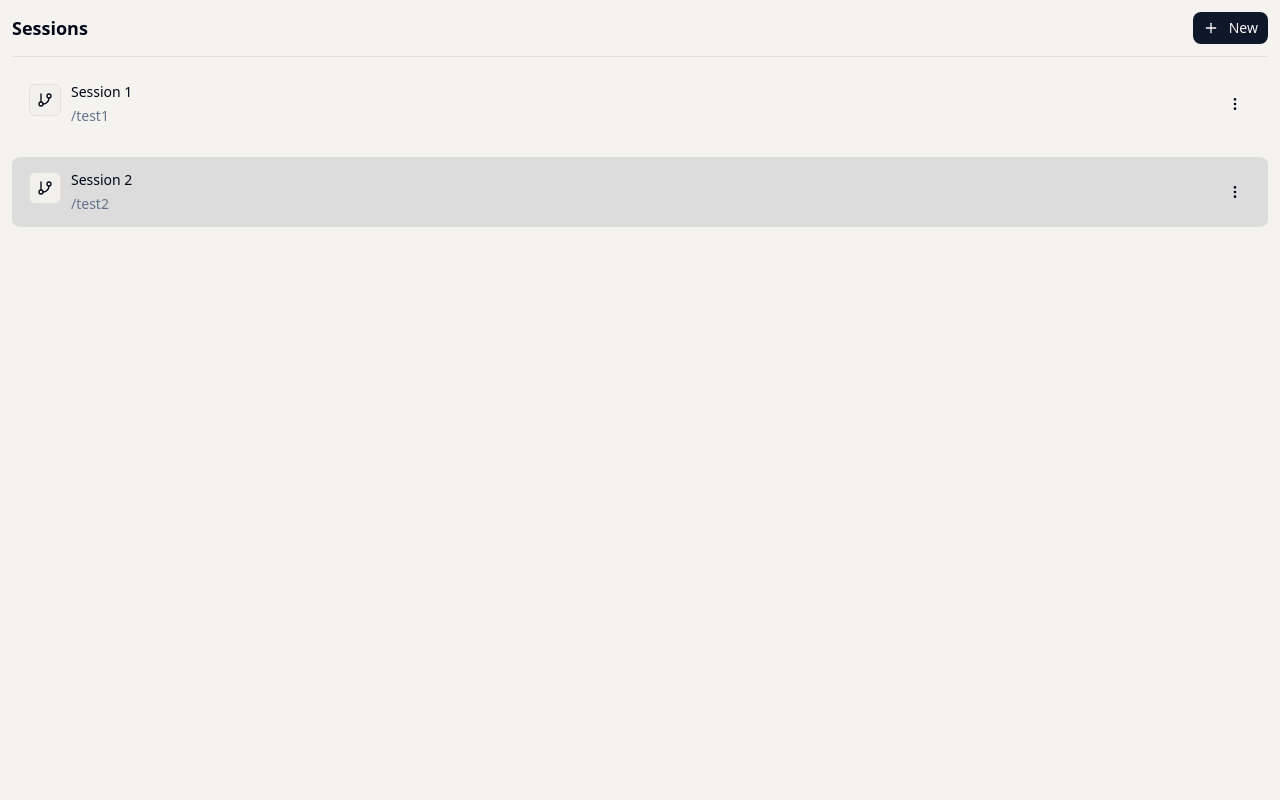
SessionList › should show confirmation dialog before delete
Expected: the text "Session 1" is shown, [71, 82, 132, 101]
// Find and click the dropdown menu trigger button (first one, not expanded)
Click the 1st button named "Delete session".
click(1235, 104)  # box [1219, 88, 1251, 120]
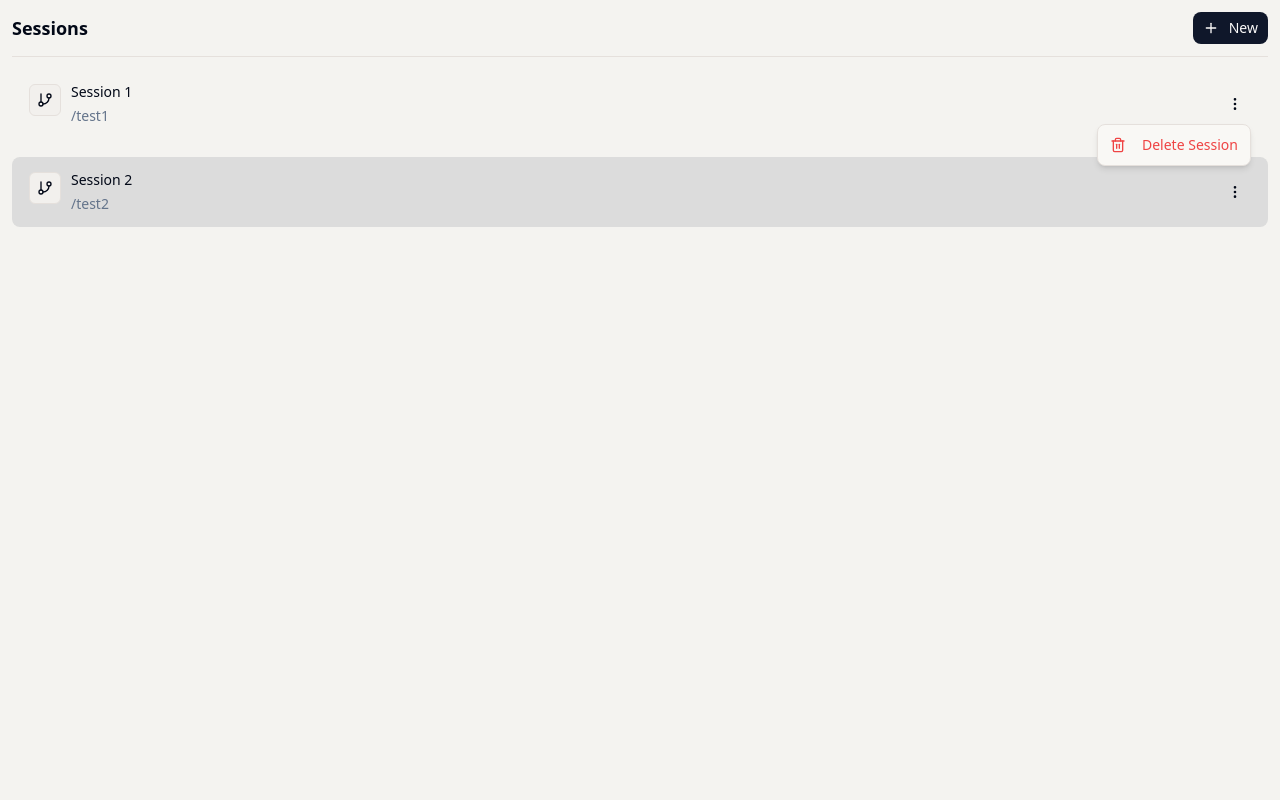
// Click the delete menu item
Click the menu item "Delete Session".
click(1174, 144)  # box [1110, 135, 1238, 154]
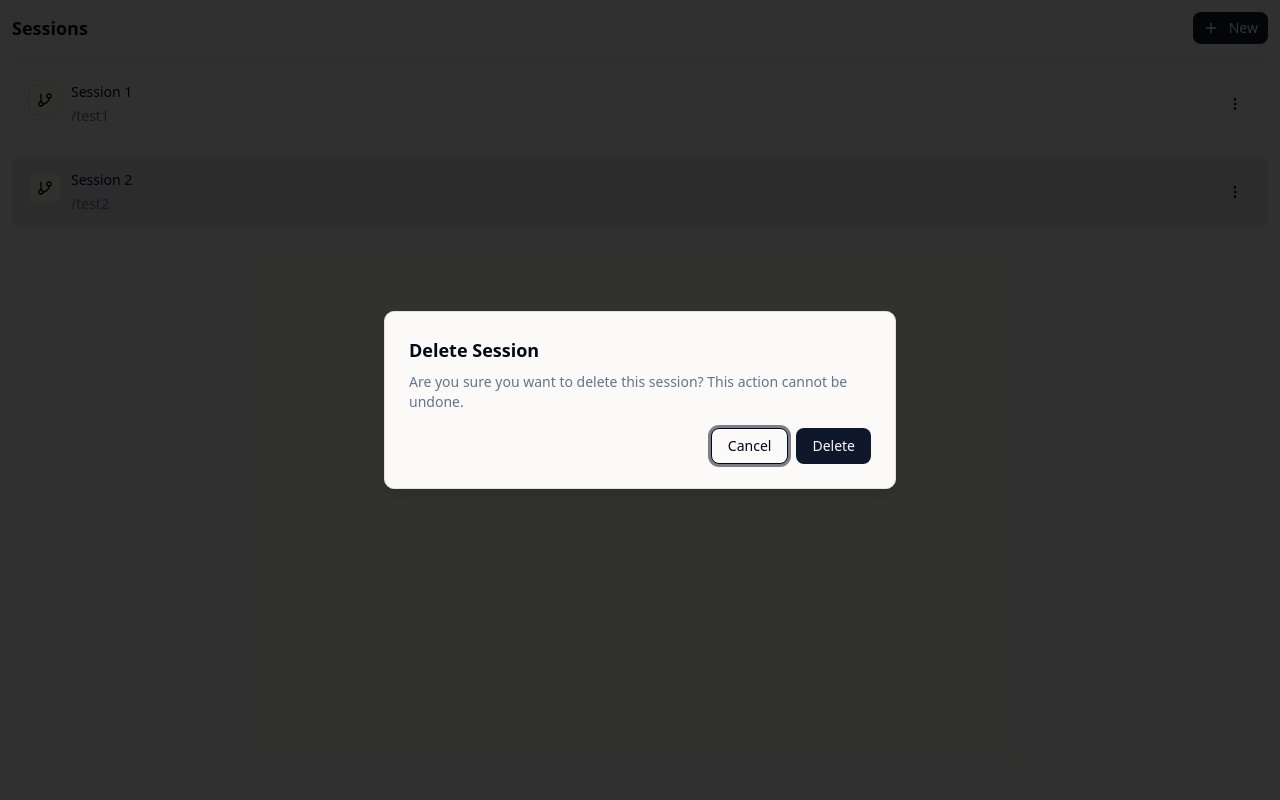
Expected: the dialog is shown, [384, 311, 896, 489]
Expected: the text "Are you sure" is shown, [409, 372, 847, 411]
